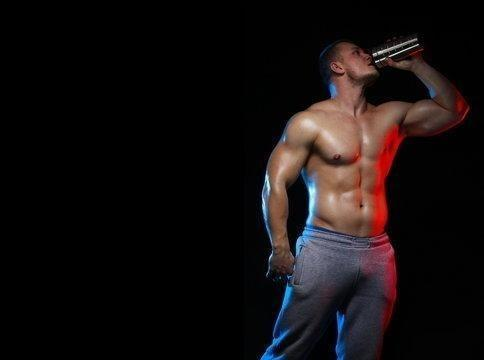gym bottle: (370, 34, 424, 69)
